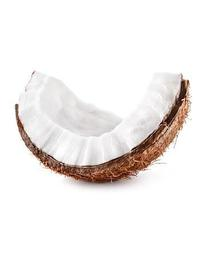coconut: (14, 69, 191, 184)
